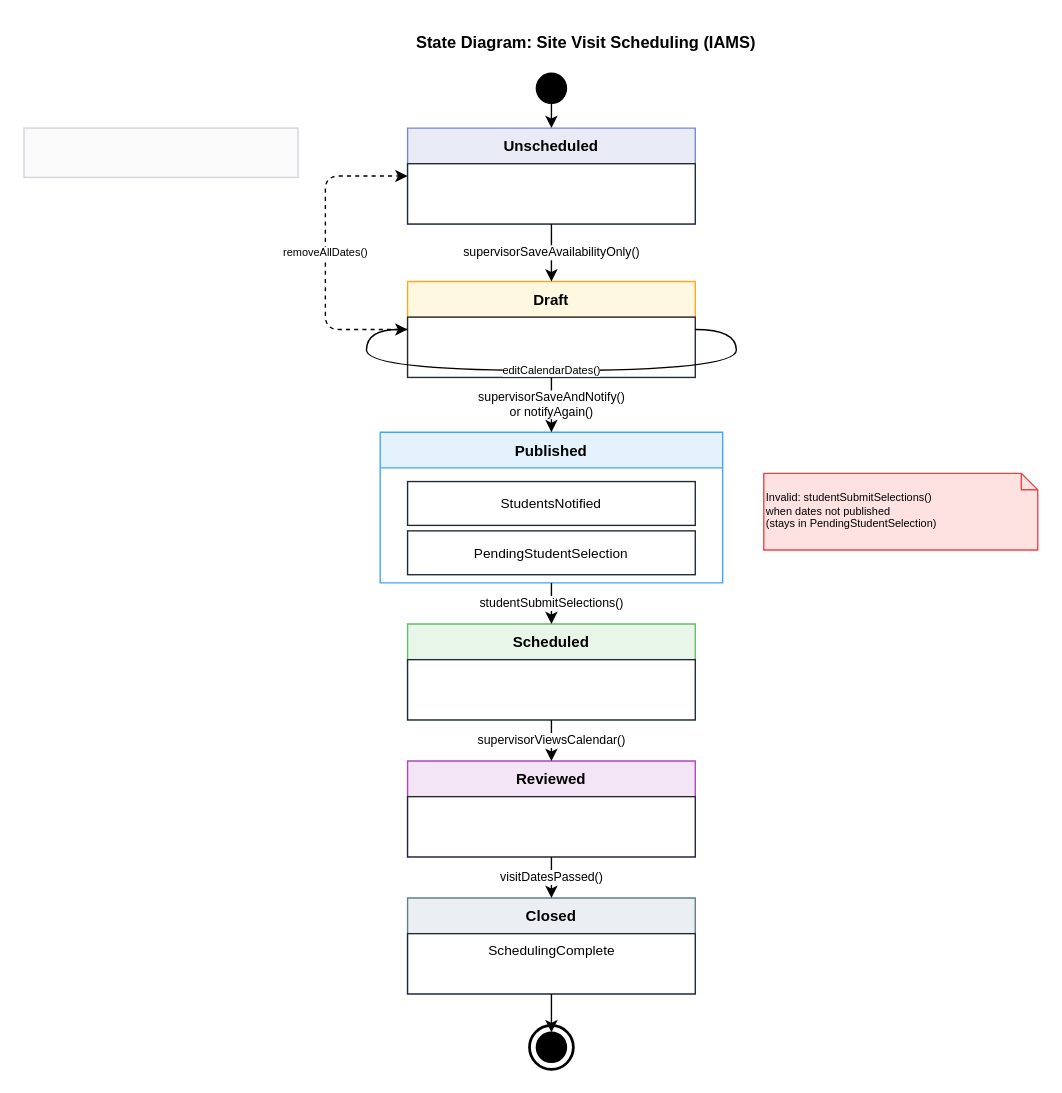
Image size: 1062x1093. Some labels were removed from this diagram. Here are the shapes that lost their labels. From the top down, the centre of each, then its label:
the point at 160,152: published_at set → Published student_visit_selections → Scheduled
the point at 550,193: ReadyForScheduling
the point at 550,346: DatesNotVisibleToStudents
the point at 550,689: SelectionsSaved
the point at 550,826: StudentsListedByDate
